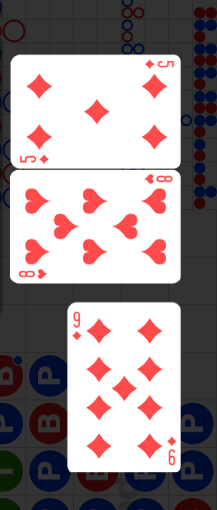5D: (143, 58, 175, 70)
9D: (70, 310, 83, 342), (166, 435, 177, 466)
